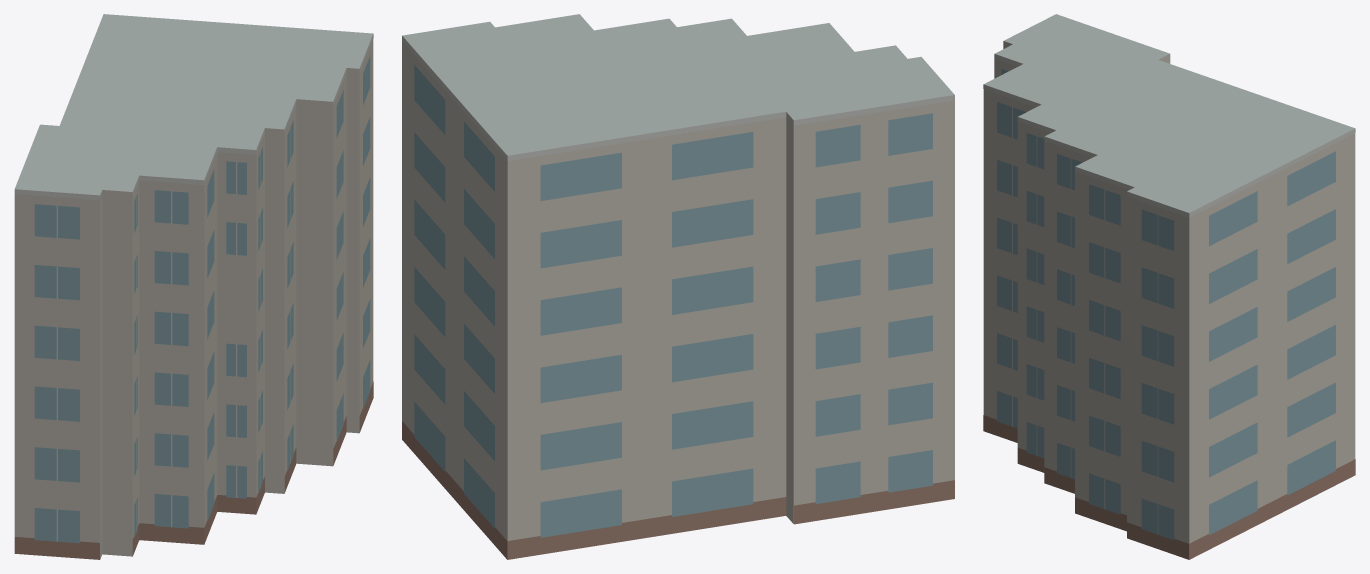
The model's file is survey-upis-32927192.glb.
3 renders of one model, left to right at view 1: azimuth 30°, elevation 25°; view 2: azimuth 150°, elevation 25°; view 3: azimuth 270°, elevation 25°, orthographic. The views are drawn at different scales.
Visible parts, largest first — view 1: survey-upis-32927192.tmp; view 2: survey-upis-32927192.tmp; view 3: survey-upis-32927192.tmp.
Boxes of the visible parts, x1,y1,x2,y2 form: survey-upis-32927192.tmp: (14,14,373,559); survey-upis-32927192.tmp: (402,14,954,559); survey-upis-32927192.tmp: (983,14,1355,559).
Bounding box in the file's own units: 22.53 × 18.3 × 17.8.
